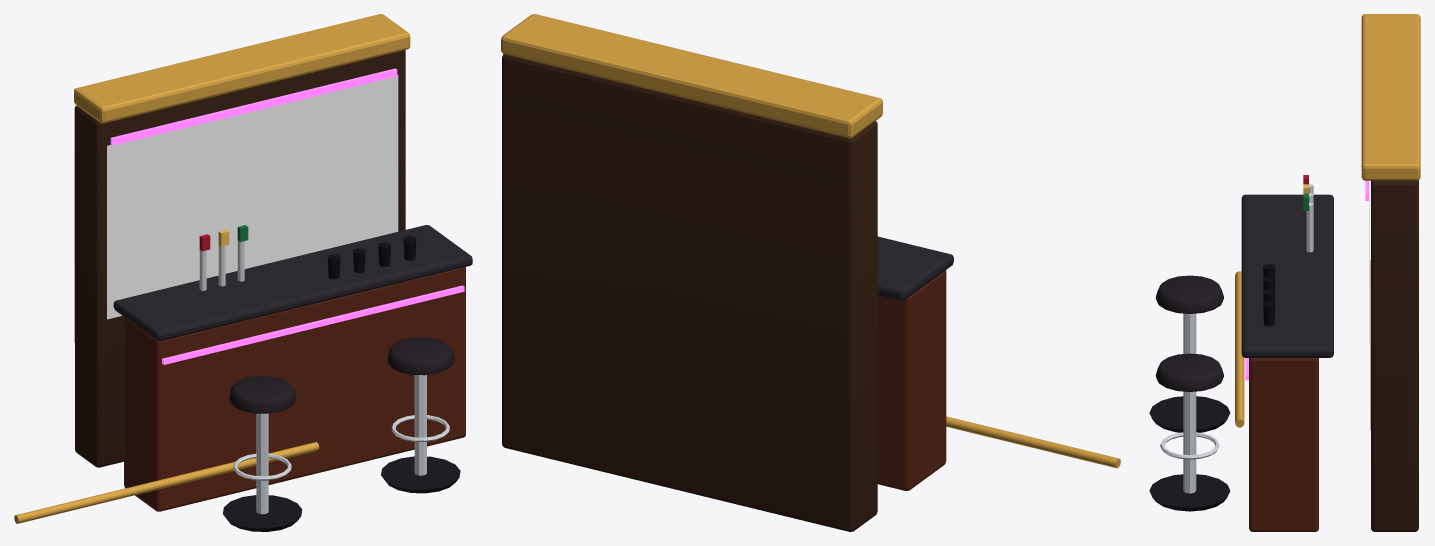
File: bar-counter.glb
3 views of the same model, side by side, from view 1: azimuth 30°, elevation 25°; view 2: azimuth 150°, elevation 25°; view 3: azimuth 270°, elevation 25° (orthographic). The views are drawn at different scales.
Parts seen in each view (by area): view 1: bar-counter_lod0; view 2: bar-counter_lod0; view 3: bar-counter_lod0.
Part boxes in pixels (box(x1,y1,x2,y2)): bar-counter_lod0: box(14, 14, 472, 531); bar-counter_lod0: box(501, 14, 1120, 531); bar-counter_lod0: box(1149, 14, 1420, 531).
Size of what is drawn, in the model's own units: 2.9 by 2.2 by 1.47.
